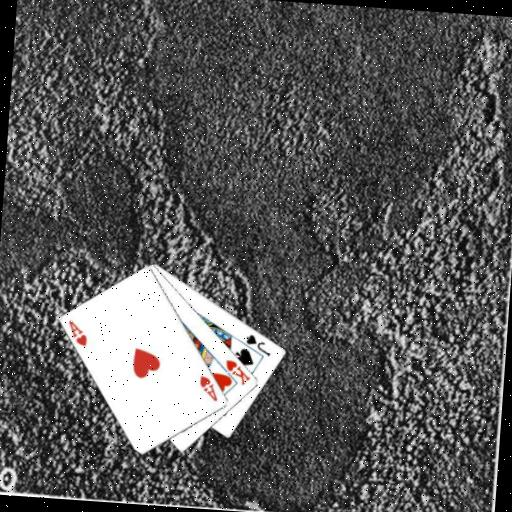AH: (195, 372, 221, 404), (64, 317, 90, 348)
JS: (242, 331, 274, 358)
KH: (222, 356, 254, 387)
